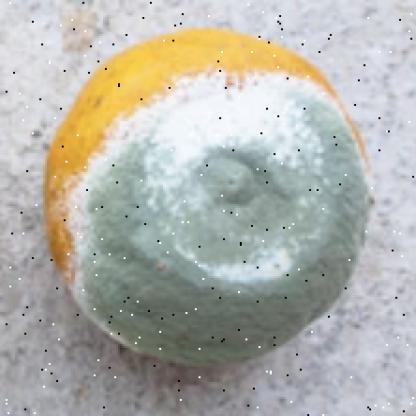rotten: (45, 31, 370, 364)
